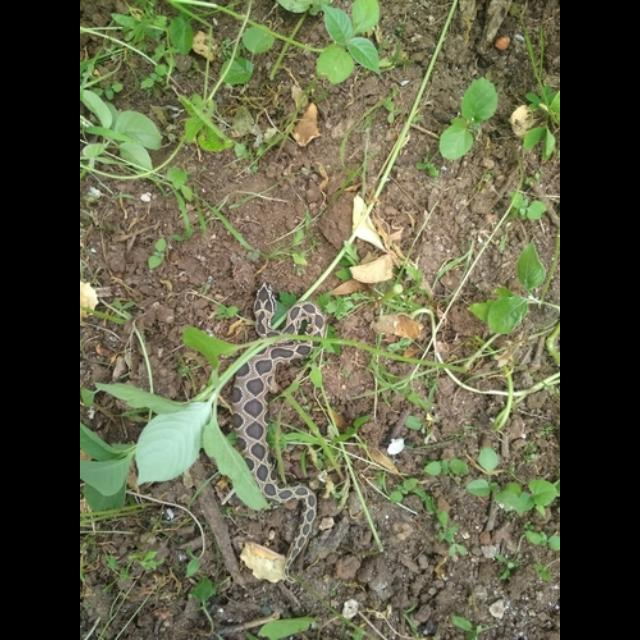snake: (237, 274, 335, 584)
